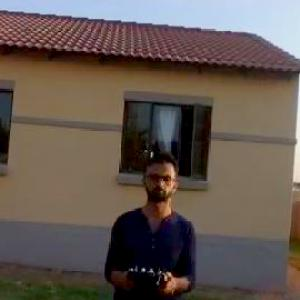follow: (96, 139, 198, 299)
